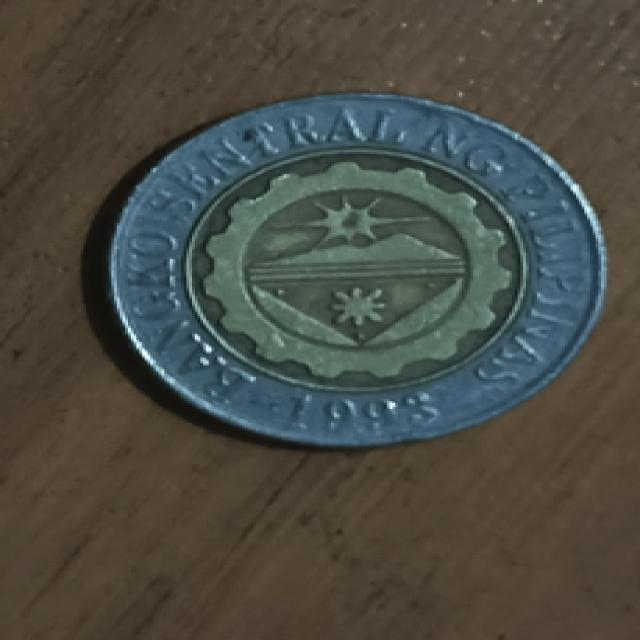10_peso: (109, 95, 601, 446)
